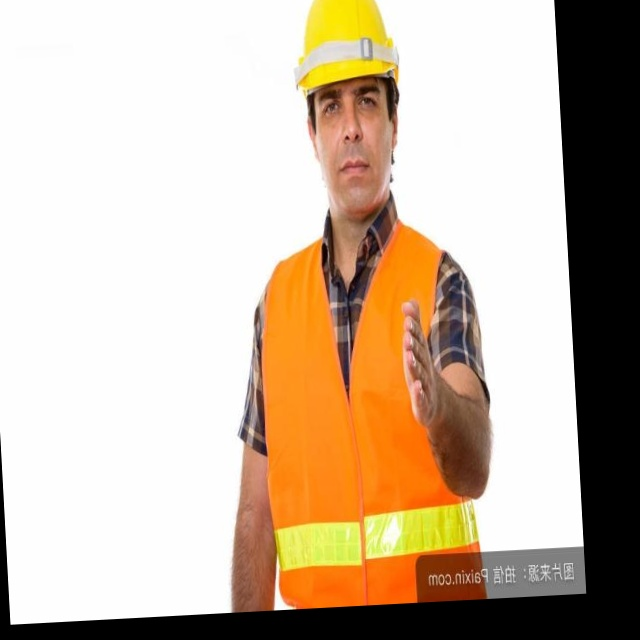Con_Casco: (291, 0, 408, 223)
Con_Chaleco: (256, 231, 478, 604)
